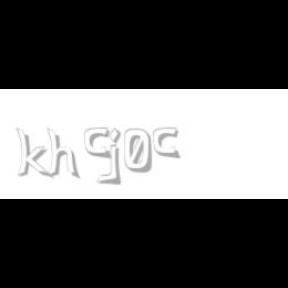0: (124, 128, 156, 174)
c: (84, 128, 114, 160), (153, 128, 182, 160)
h: (46, 128, 82, 180)
j: (106, 128, 136, 186)
k: (15, 128, 53, 180)
